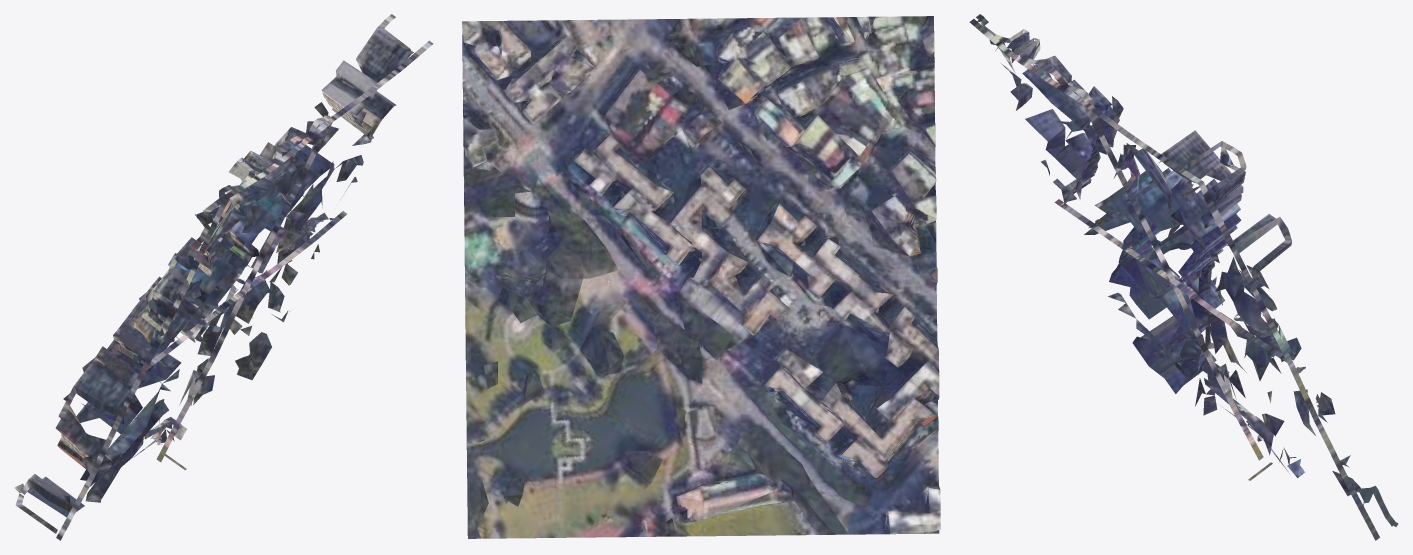
3 renders of one model, left to right at view 1: azimuth 30°, elevation 25°; view 2: azimuth 150°, elevation 25°; view 3: azimuth 270°, elevation 25°, orthographic. The views are drawn at different scales.
Size of the model in its own units: 322 by 297 by 267.
1 material, 1 textured.
